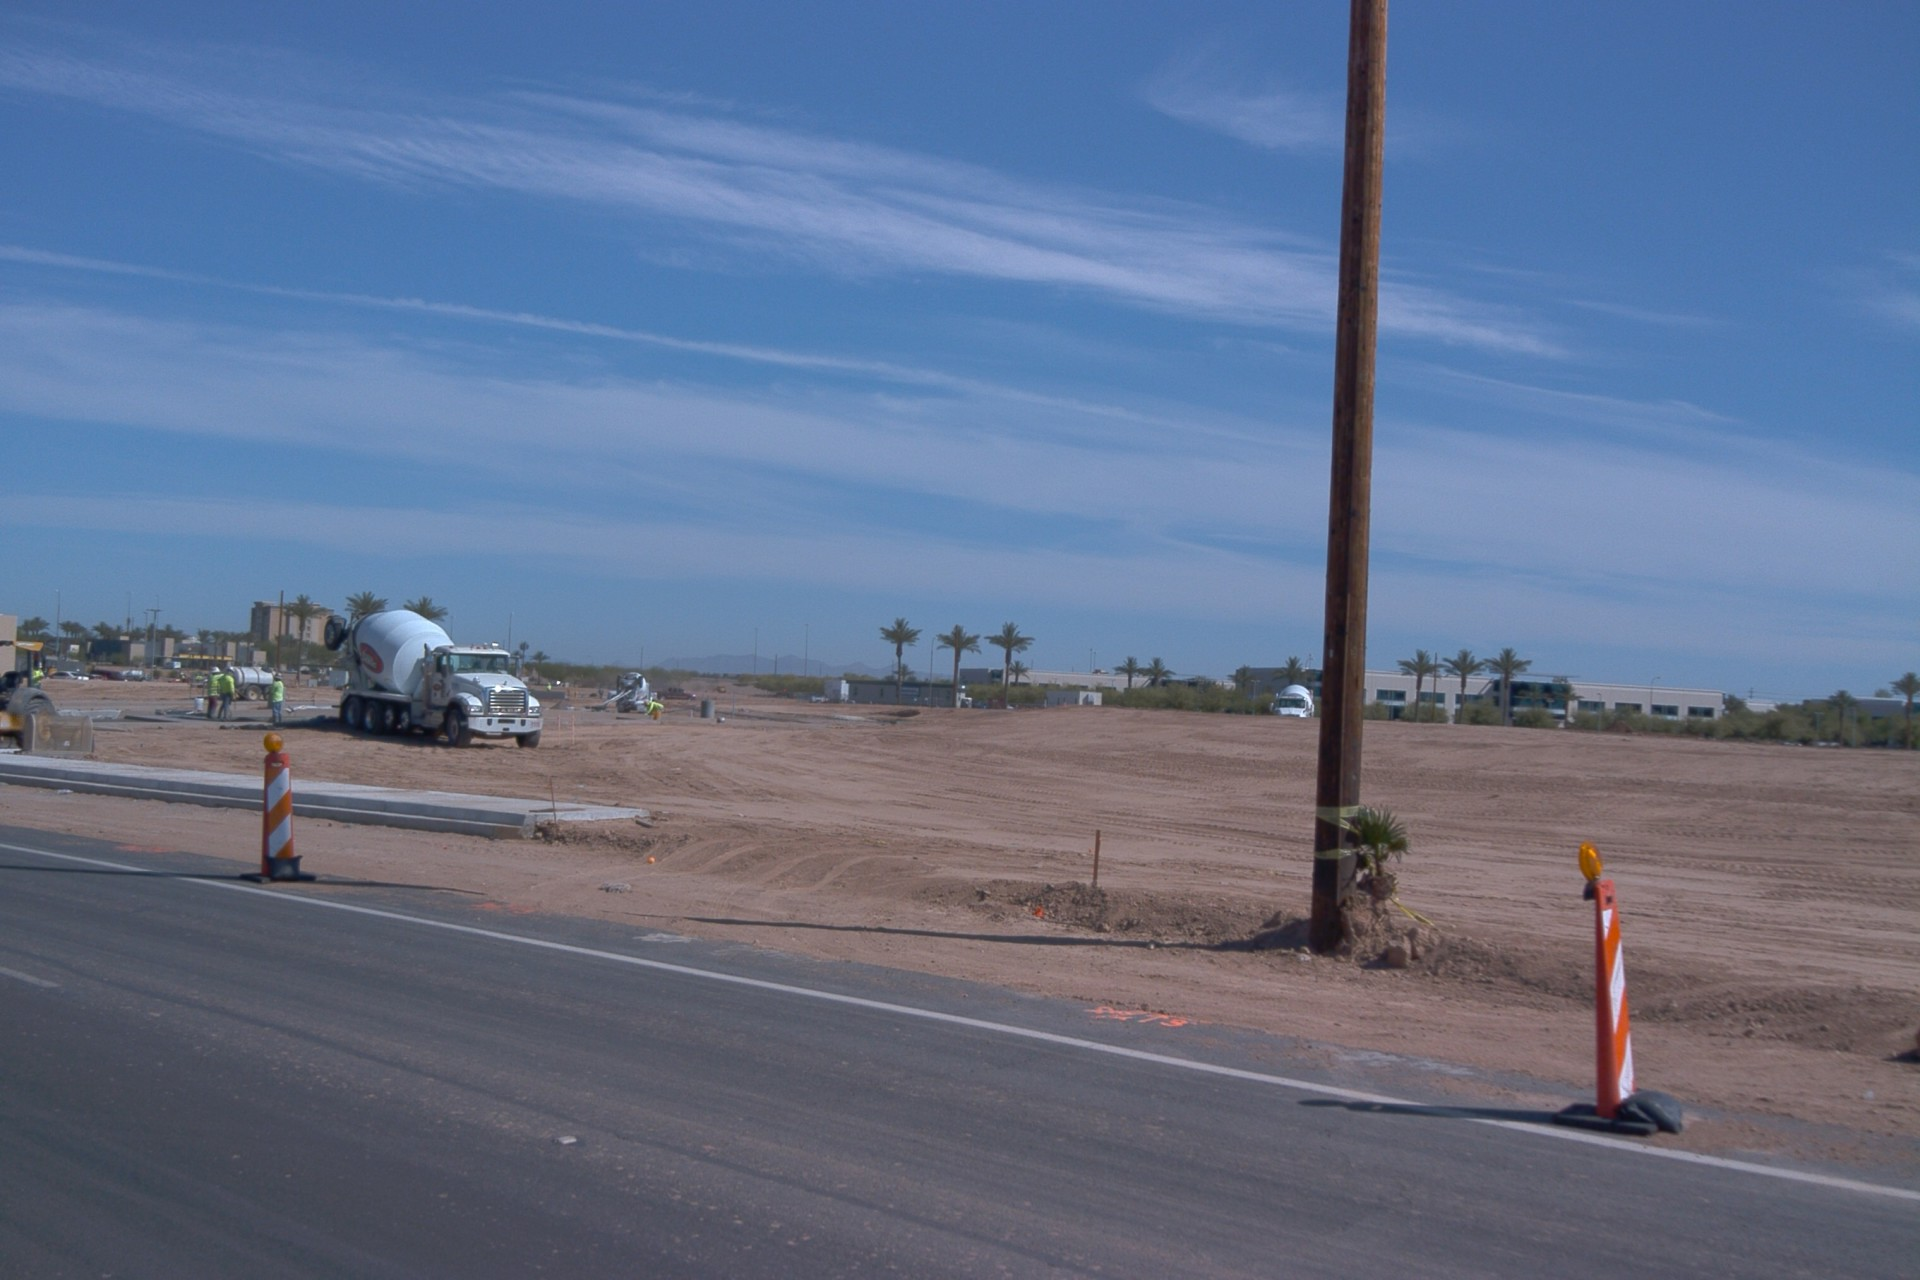TYPE_PEDESTRIAN: (214, 666, 235, 724), (262, 671, 283, 726), (206, 668, 226, 721), (31, 657, 46, 690), (643, 700, 665, 717), (597, 684, 605, 700)
TYPE_VEHICLE: (322, 611, 545, 752), (0, 639, 55, 753), (601, 672, 657, 717), (218, 664, 276, 704), (1268, 681, 1317, 720), (88, 669, 137, 685), (651, 688, 696, 704), (609, 693, 658, 704), (48, 669, 91, 680), (806, 694, 825, 703), (162, 661, 183, 669)
